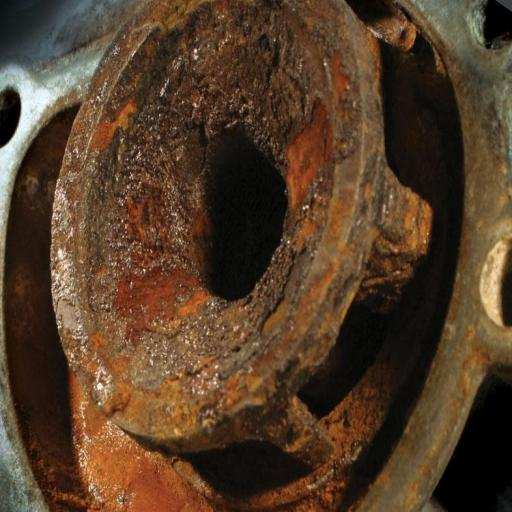segmentation: (0, 0, 511, 511), (51, 0, 431, 463)
